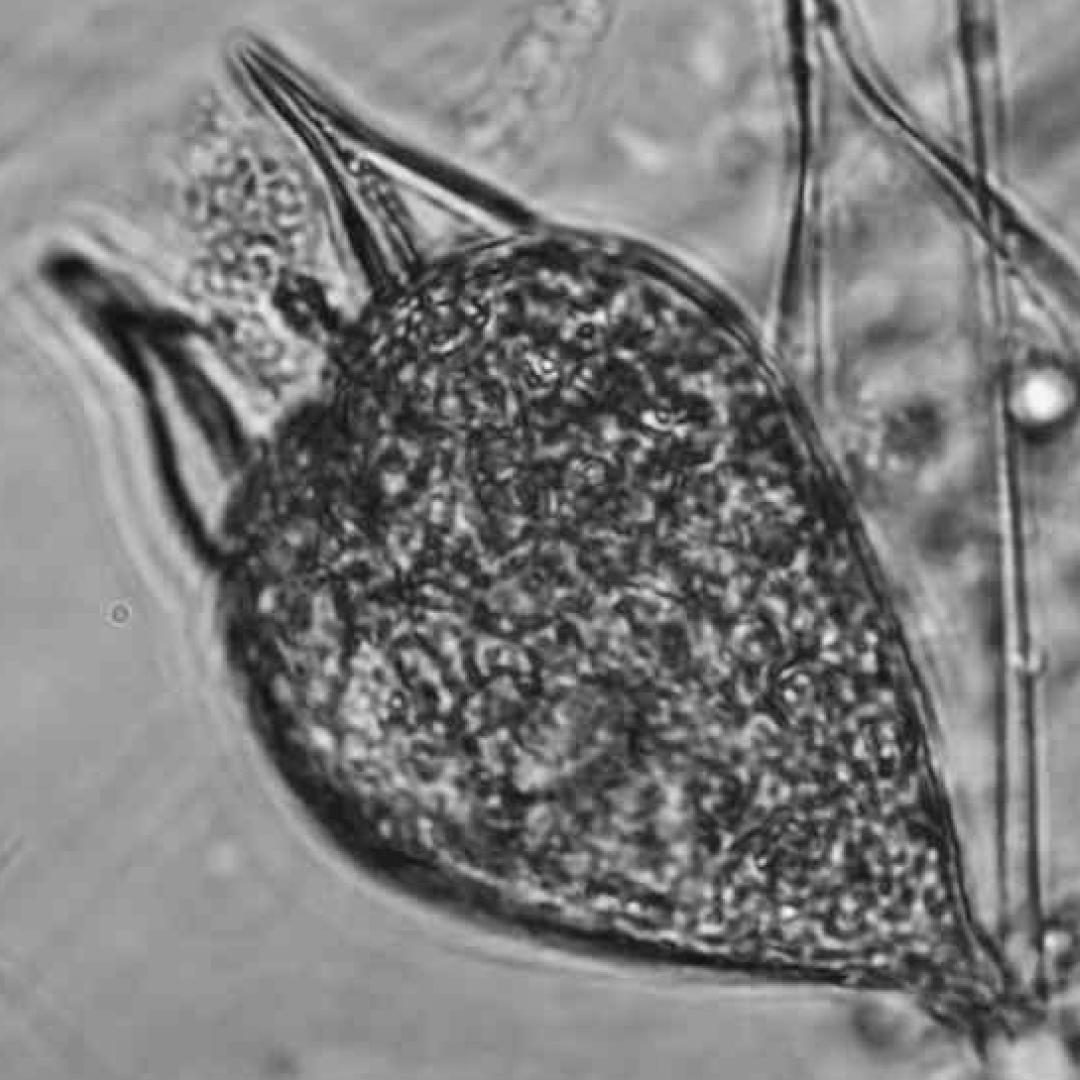podolampas_bipes: (39, 43, 1048, 1064)
